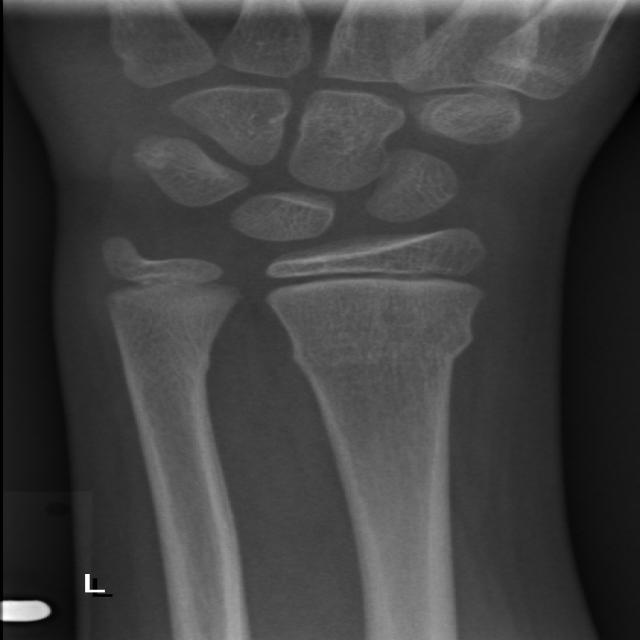radius fracture: (244, 312, 532, 450)
ulna fracture: (83, 225, 252, 464)
